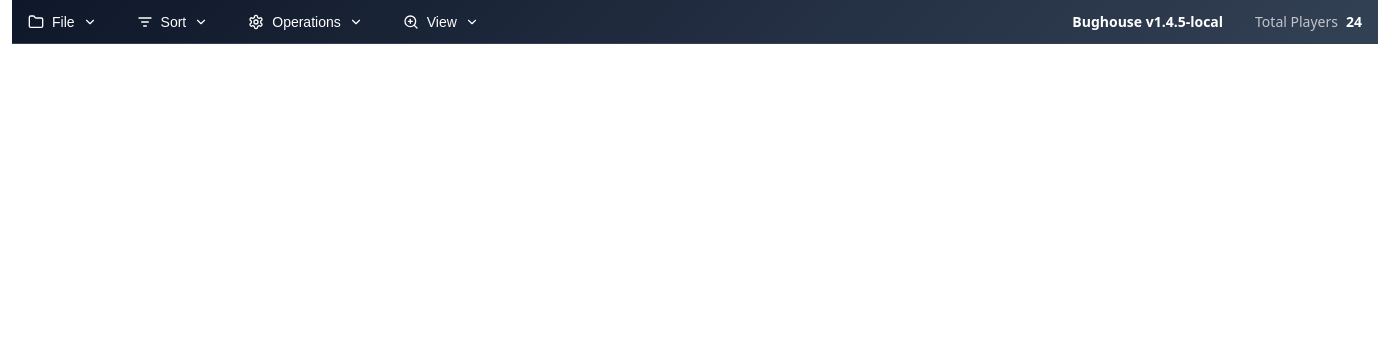
Test case: MenuBar component › admin mode › Admin Mode toggle › should show Admin Mode button when in admin mode
Click the button "Operations": [306, 22] box [232,6,379,38]
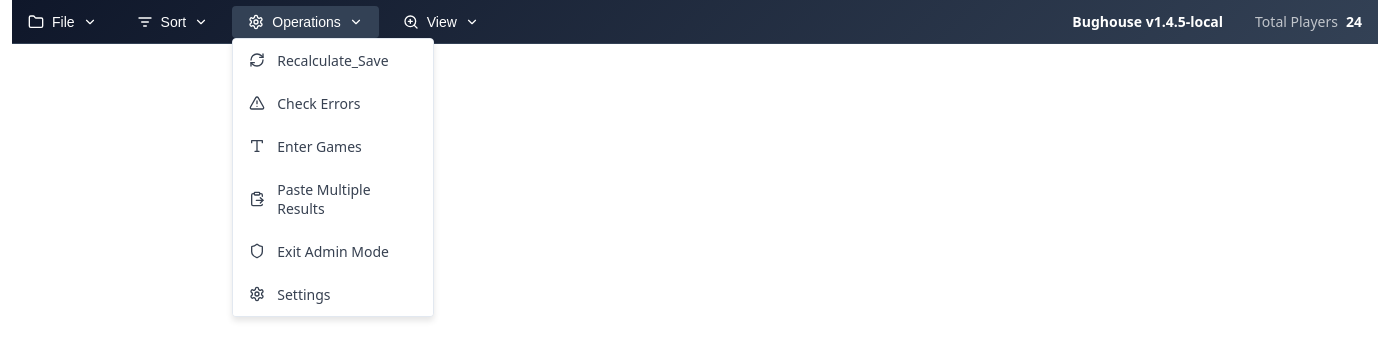
Now the text "Exit Admin Mode" is shown, box [277,242,389,260]
